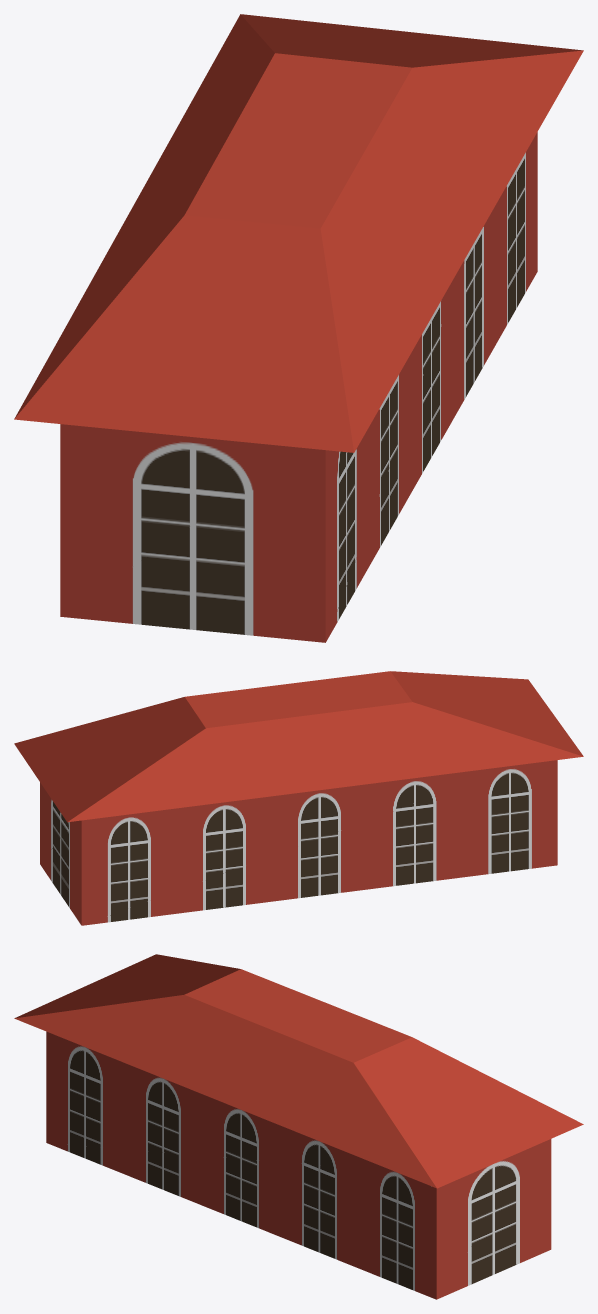
File: ckiosk_d.glb
3 renders of one model, top to bottom at view 1: azimuth 30°, elevation 25°; view 2: azimuth 150°, elevation 25°; view 3: azimuth 270°, elevation 25°, orthographic. The views are drawn at different scales.
Visible parts, largest first — view 1: ckiosk_d_lod0; view 2: ckiosk_d_lod0; view 3: ckiosk_d_lod0.
Boxes of the visible parts, x1,y1,x2,y2 form: ckiosk_d_lod0: [14, 14, 583, 642]; ckiosk_d_lod0: [14, 671, 583, 925]; ckiosk_d_lod0: [14, 954, 583, 1299].
Size of what is drawn, in the model's own units: 14.5 by 5.2 by 14.9.
3 materials, 1 textured.
